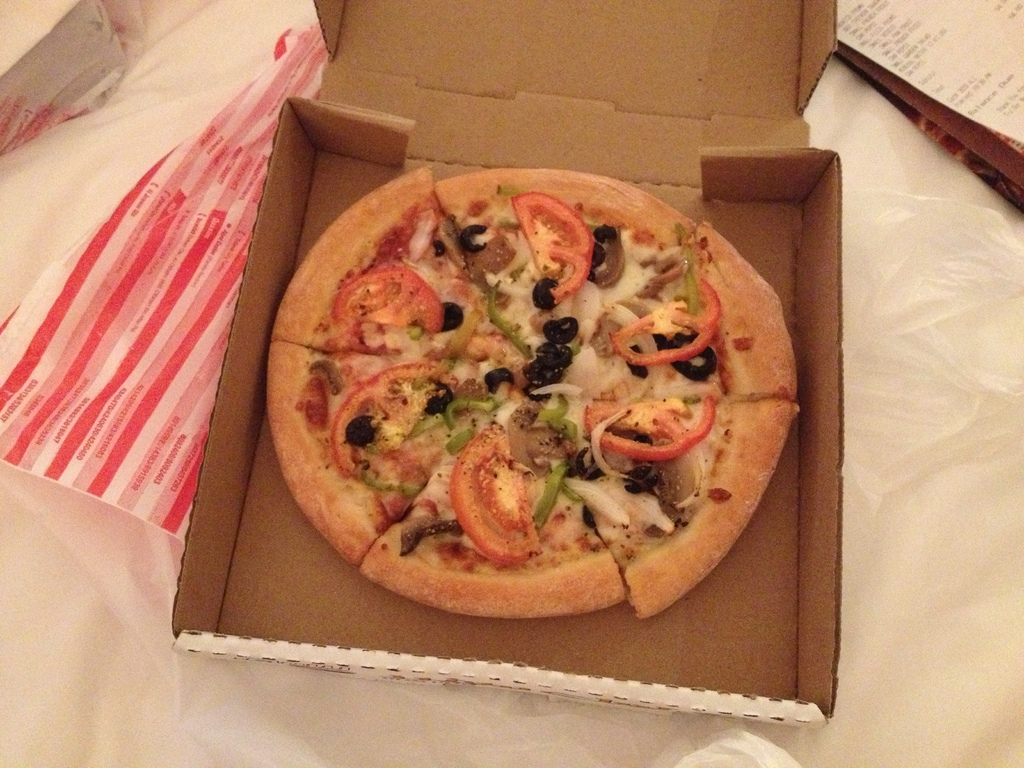Pizza: (253, 169, 789, 626)
